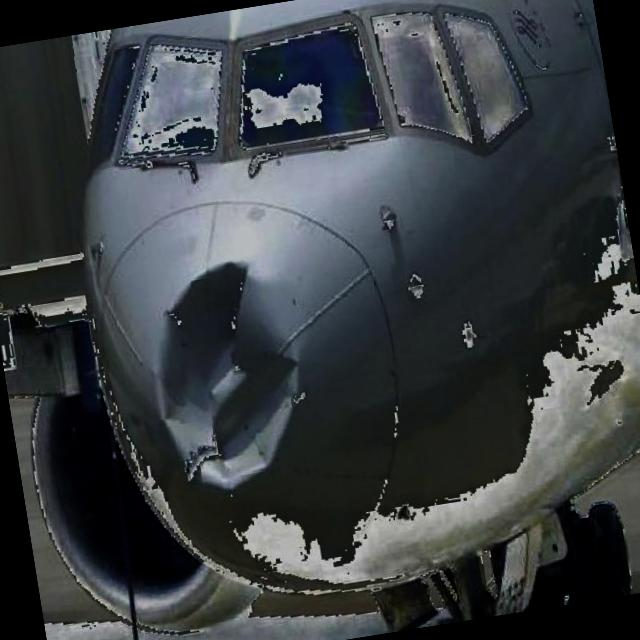dent: (140, 251, 320, 504)
